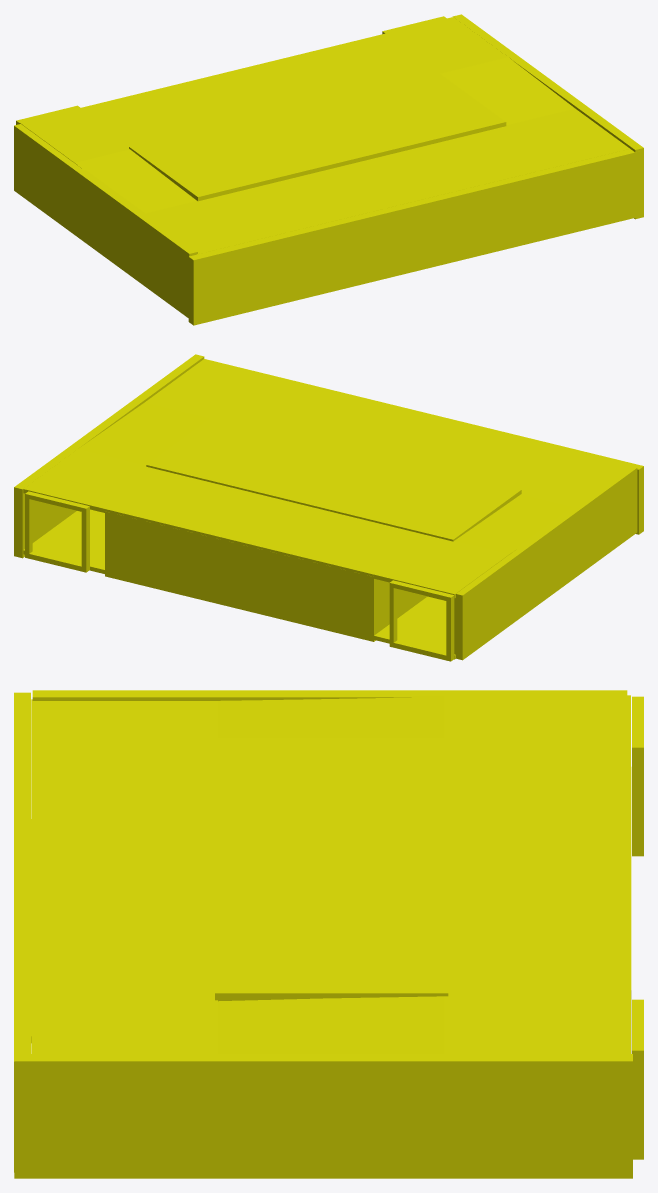
Rendered from Vent2.fbx.
The picture shows the model from 3 angles, top to bottom: view 1: azimuth 30°, elevation 25°; view 2: azimuth 150°, elevation 25°; view 3: azimuth 270°, elevation 25°; orthographic projection. The views are drawn at different scales.
Visible parts, largest first — view 1: polySurface187; view 2: polySurface187; view 3: polySurface187.
Boxes of the visible parts, <box> form: polySurface187: <box>14,14,643,325</box>; polySurface187: <box>14,354,643,661</box>; polySurface187: <box>14,690,643,1178</box>.
Size of the model in its own units: 736 by 119 by 526.
